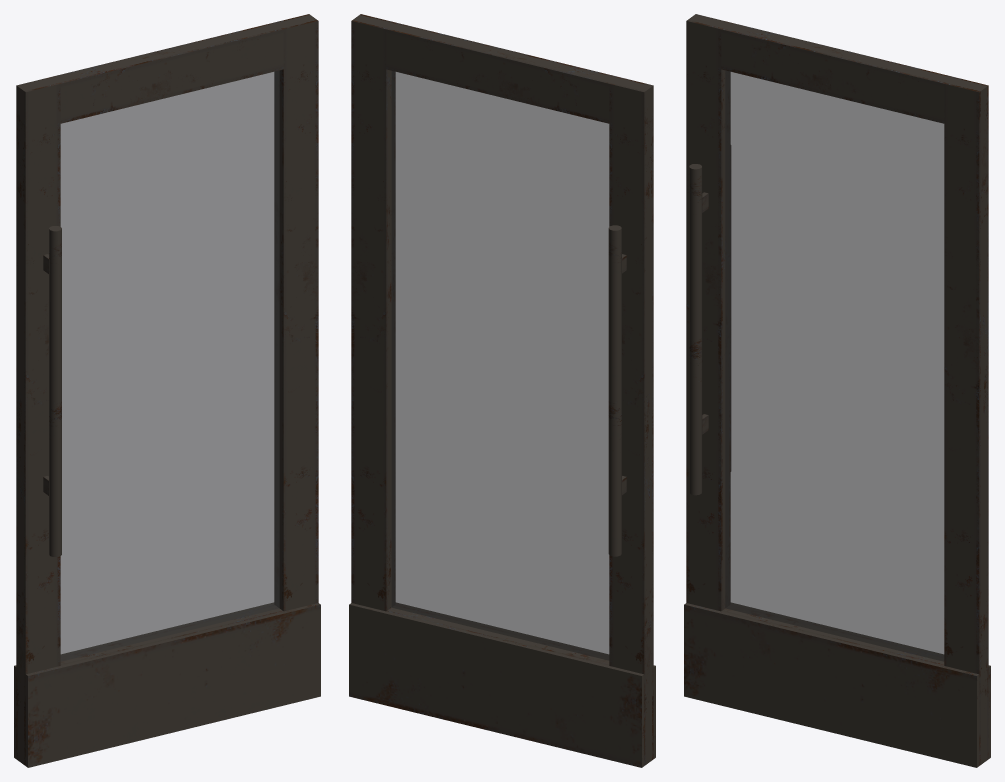
File: Door_2.gltf
3 views of the same model, side by side, from view 1: azimuth 30°, elevation 25°; view 2: azimuth 150°, elevation 25°; view 3: azimuth 330°, elevation 25° (orthographic).
Visible parts, largest first — view 1: Door_2; view 2: Door_2; view 3: Door_2.
Part boxes in pixels (box(x1,y1,x2,y2)): Door_2: box(14, 14, 320, 767); Door_2: box(349, 14, 655, 767); Door_2: box(684, 14, 990, 767).
Bounding box in the file's own units: 1 × 2.2 × 0.2103.
2 materials, 1 textured.
